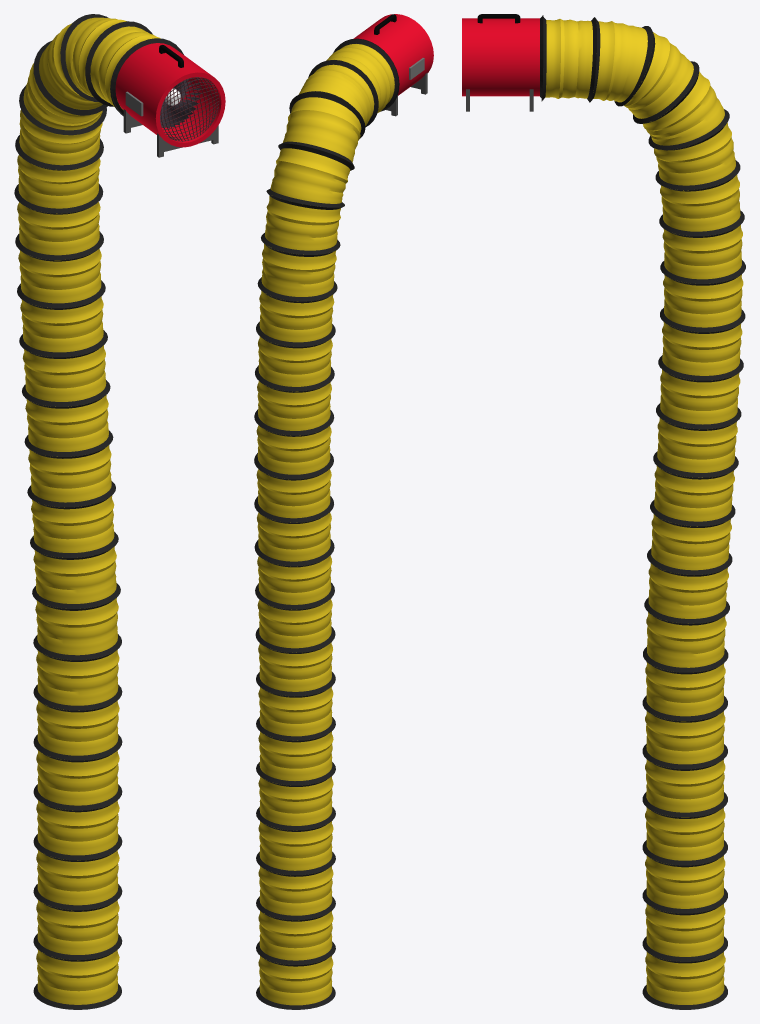
The model's file is _Pipe_vent.fbx.
The picture shows the model from 3 angles, left to right: view 1: azimuth 30°, elevation 25°; view 2: azimuth 150°, elevation 25°; view 3: azimuth 270°, elevation 25°; orthographic projection. The views are drawn at different scales.
Visible parts, largest first — view 1: Cylinder.003, Cylinder, Cylinder.001, Cylinder.004; view 2: Cylinder.003, Cylinder; view 3: Cylinder.003, Cylinder.
Boxes of the visible parts, bbox=[...] form: Cylinder.003: bbox=[14, 14, 183, 1009]; Cylinder: bbox=[115, 43, 225, 147]; Cylinder.001: bbox=[160, 77, 219, 141]; Cylinder.004: bbox=[110, 38, 183, 114]; Cylinder.003: bbox=[254, 39, 399, 1009]; Cylinder: bbox=[353, 14, 433, 95]; Cylinder.003: bbox=[541, 17, 745, 1009]; Cylinder: bbox=[462, 18, 539, 96].
Bounding box in the file's own units: 25.65 × 277 × 72.87.
